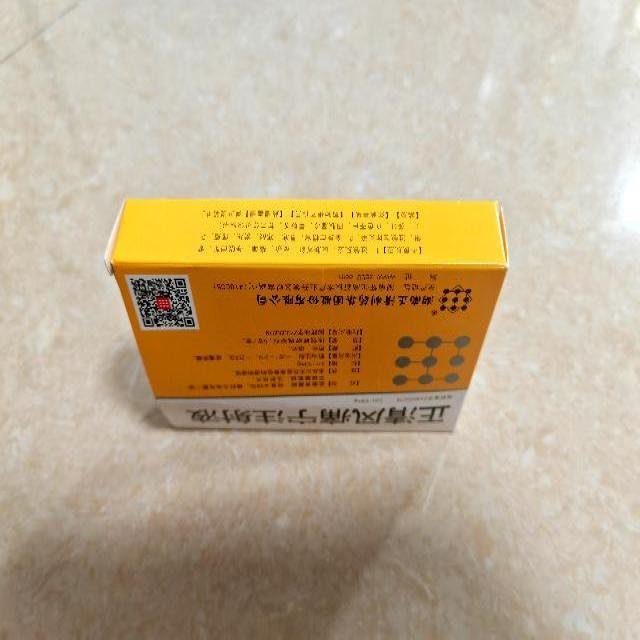box: (110, 195, 508, 434)
